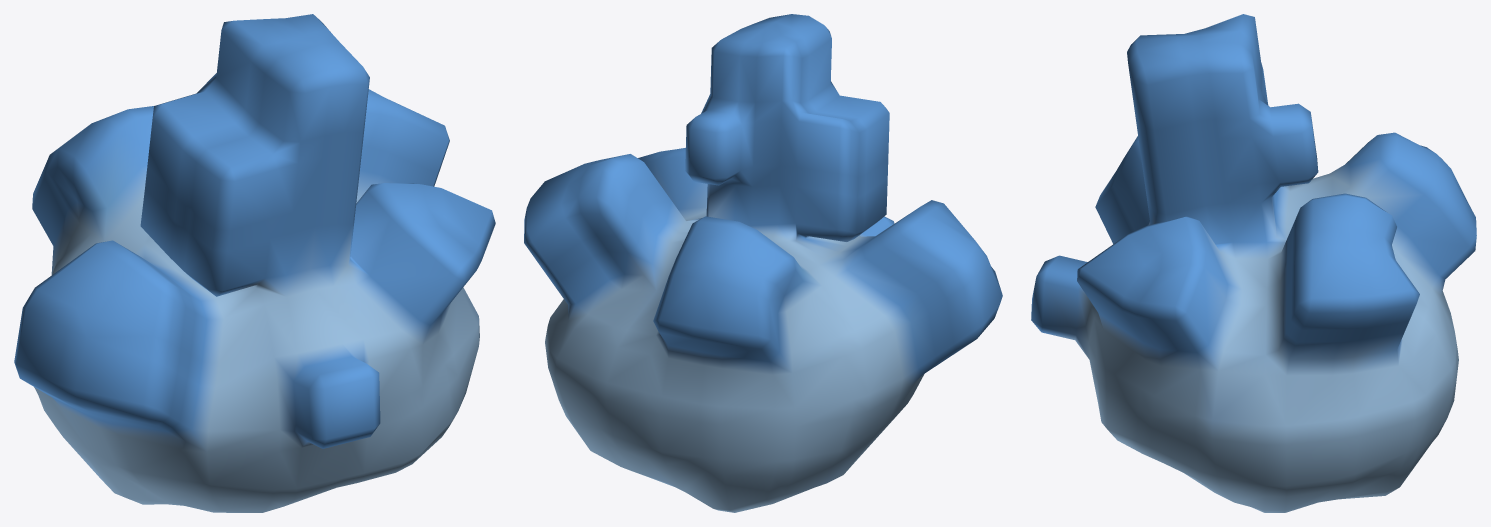
The model's file is IceRock.fbx.
3 views of the same model, side by side, from view 1: azimuth 30°, elevation 25°; view 2: azimuth 150°, elevation 25°; view 3: azimuth 270°, elevation 25° (orthographic). The views are drawn at different scales.
Parts seen in each view (by area): view 1: Roundcube; view 2: Roundcube; view 3: Roundcube.
Part boxes in pixels (x1,y1,x2,y2): Roundcube: [14, 14, 495, 512]; Roundcube: [524, 14, 1002, 512]; Roundcube: [1031, 14, 1476, 512].
Bounding box in the file's own units: 231 × 234 × 206.
